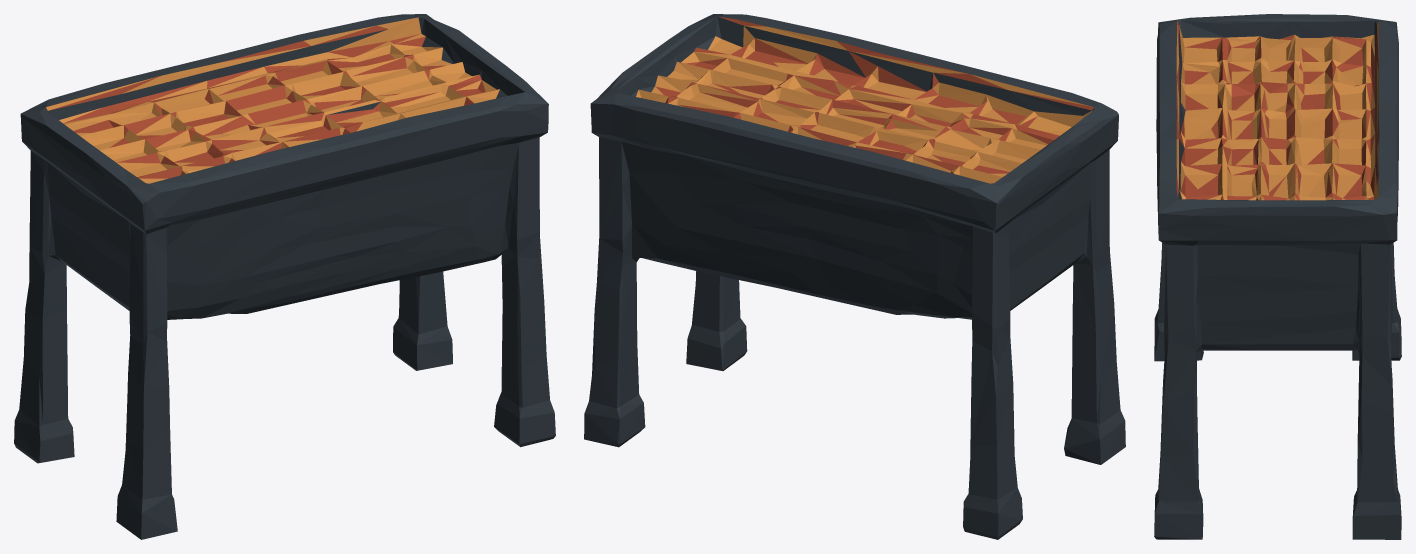
Rendered from charcoal_grill.glb.
3 renders of one model, left to right at view 1: azimuth 30°, elevation 25°; view 2: azimuth 150°, elevation 25°; view 3: azimuth 270°, elevation 25°, orthographic. The views are drawn at different scales.
Parts seen in each view (by area): view 1: charcoal_grill; view 2: charcoal_grill; view 3: charcoal_grill.
Boxes of the visible parts, left/top/right/bottom form: charcoal_grill: left=14, top=14, right=555, bottom=539; charcoal_grill: left=584, top=14, right=1125, bottom=539; charcoal_grill: left=1154, top=14, right=1401, bottom=539.
Bounding box in the file's own units: 0.9 × 0.72 × 0.48.
